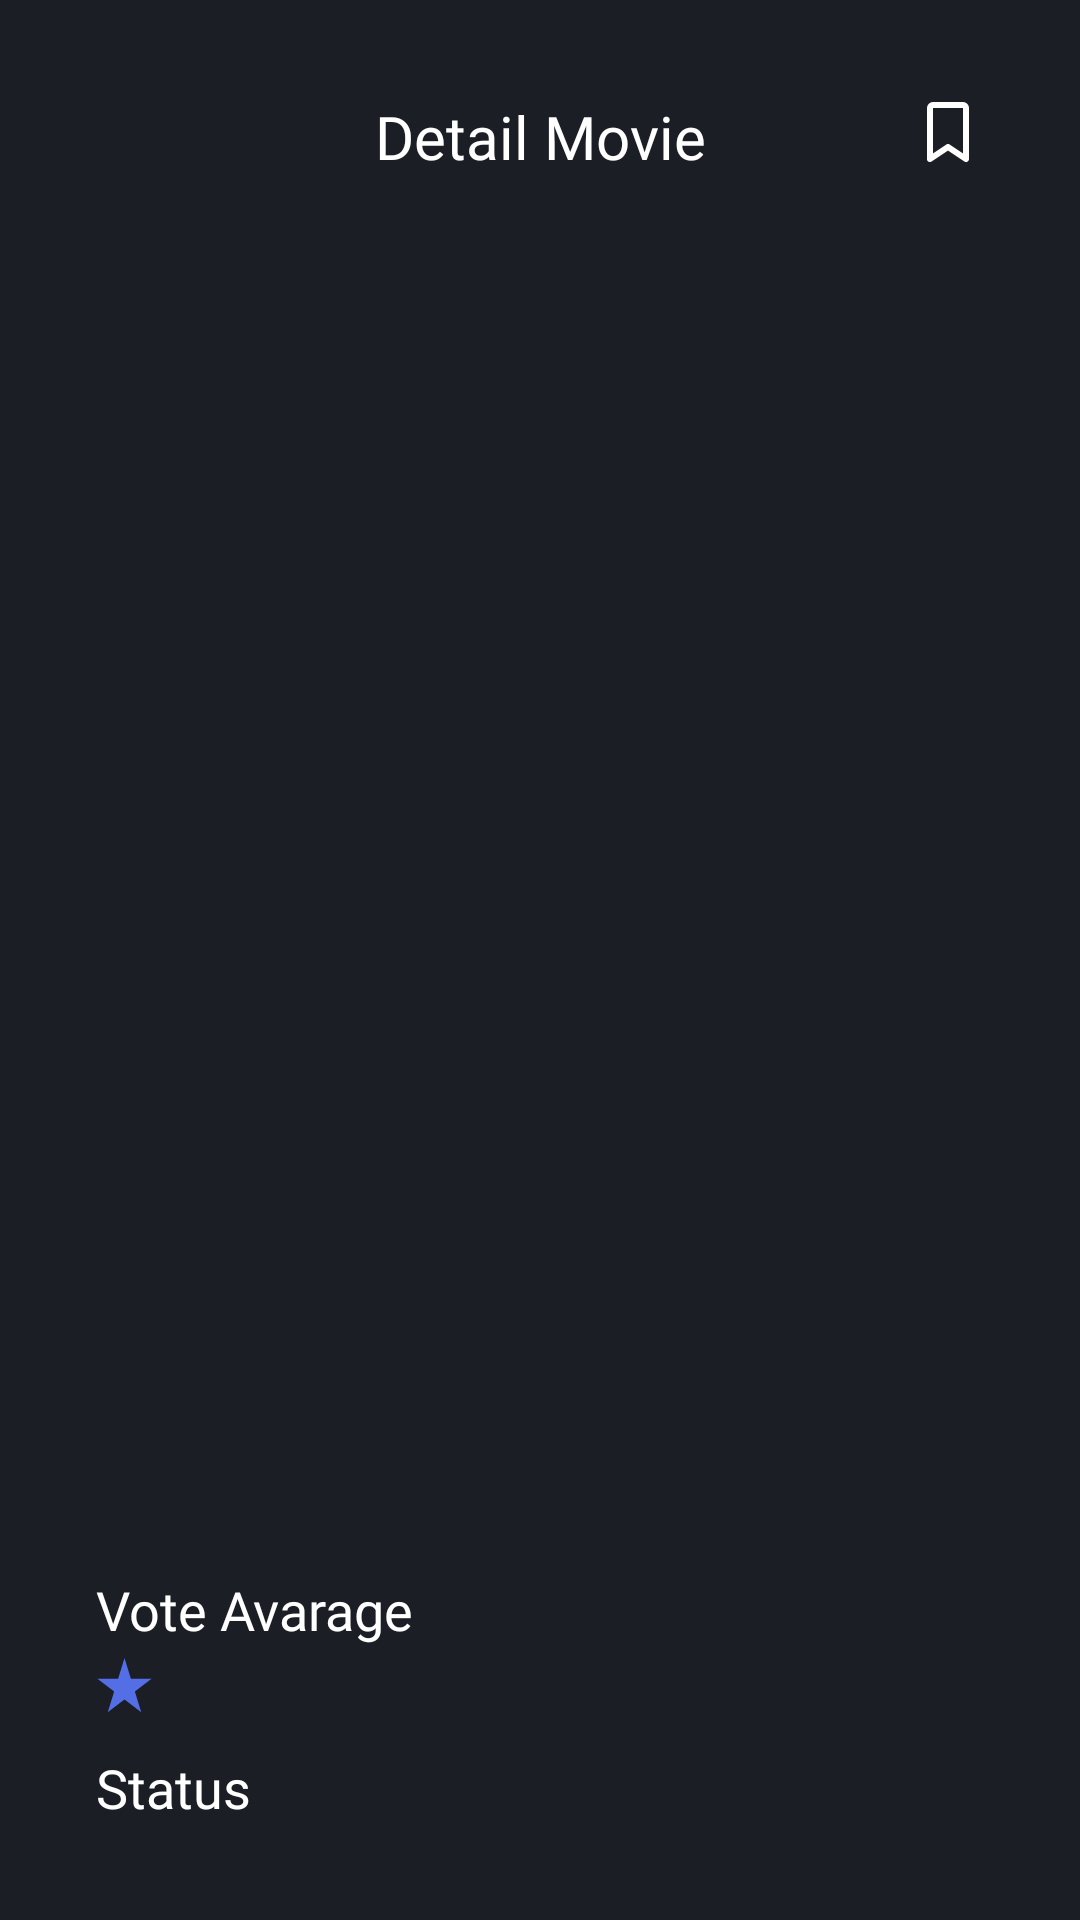

Screen size 1080 x 1920. Icon name, then its center in pixels as (x=x, y=y):
button save: (x=948, y=132)
